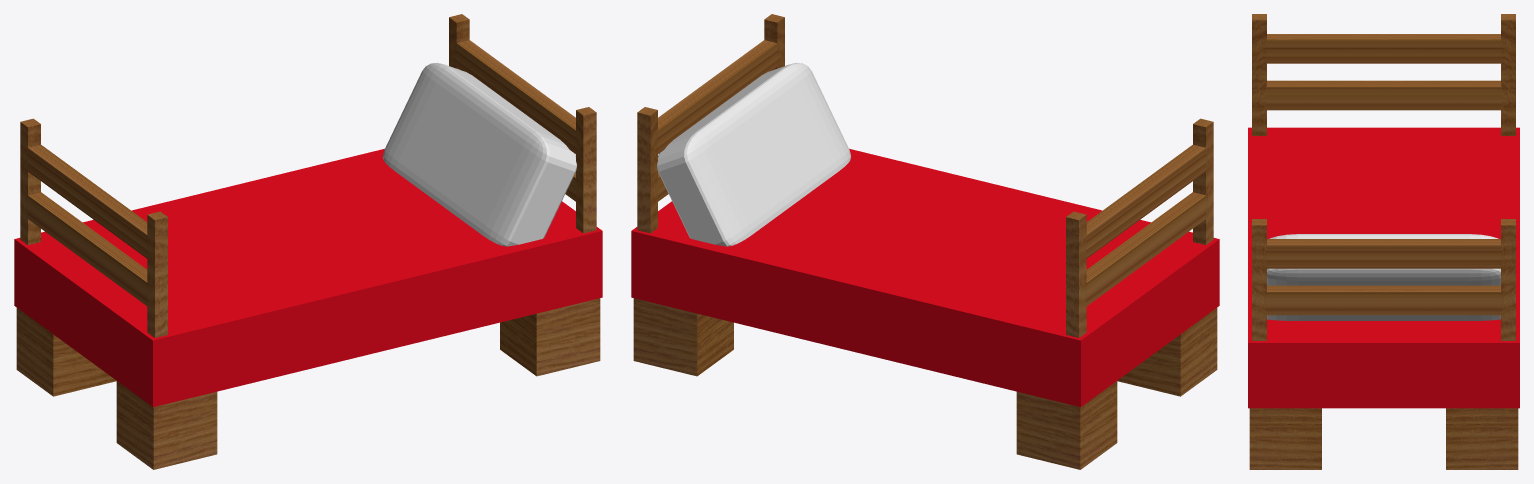
Rendered from Кровать.fbx.
The picture shows the model from 3 angles, left to right: view 1: azimuth 30°, elevation 25°; view 2: azimuth 150°, elevation 25°; view 3: azimuth 270°, elevation 25°; orthographic projection.
Parts seen in each view (by area): view 1: Куб, Куб.003, Куб.002, Куб.001; view 2: Куб, Куб.003, Куб.002, Куб.001; view 3: Куб, Куб.002, Куб.001, Куб.003.
Boxes of the visible parts, <box> form: Куб: <box>14,148,602,407</box>; Куб.003: <box>382,62,576,246</box>; Куб.002: <box>20,14,596,337</box>; Куб.001: <box>16,298,600,469</box>; Куб: <box>631,148,1219,407</box>; Куб.003: <box>657,62,850,246</box>; Куб.002: <box>637,14,1213,337</box>; Куб.001: <box>633,298,1217,469</box>; Куб: <box>1248,127,1519,408</box>; Куб.002: <box>1252,14,1515,340</box>; Куб.001: <box>1249,408,1518,469</box>; Куб.003: <box>1267,234,1500,320</box>.
Bounding box in the file's own units: 1411 × 745 × 754.
